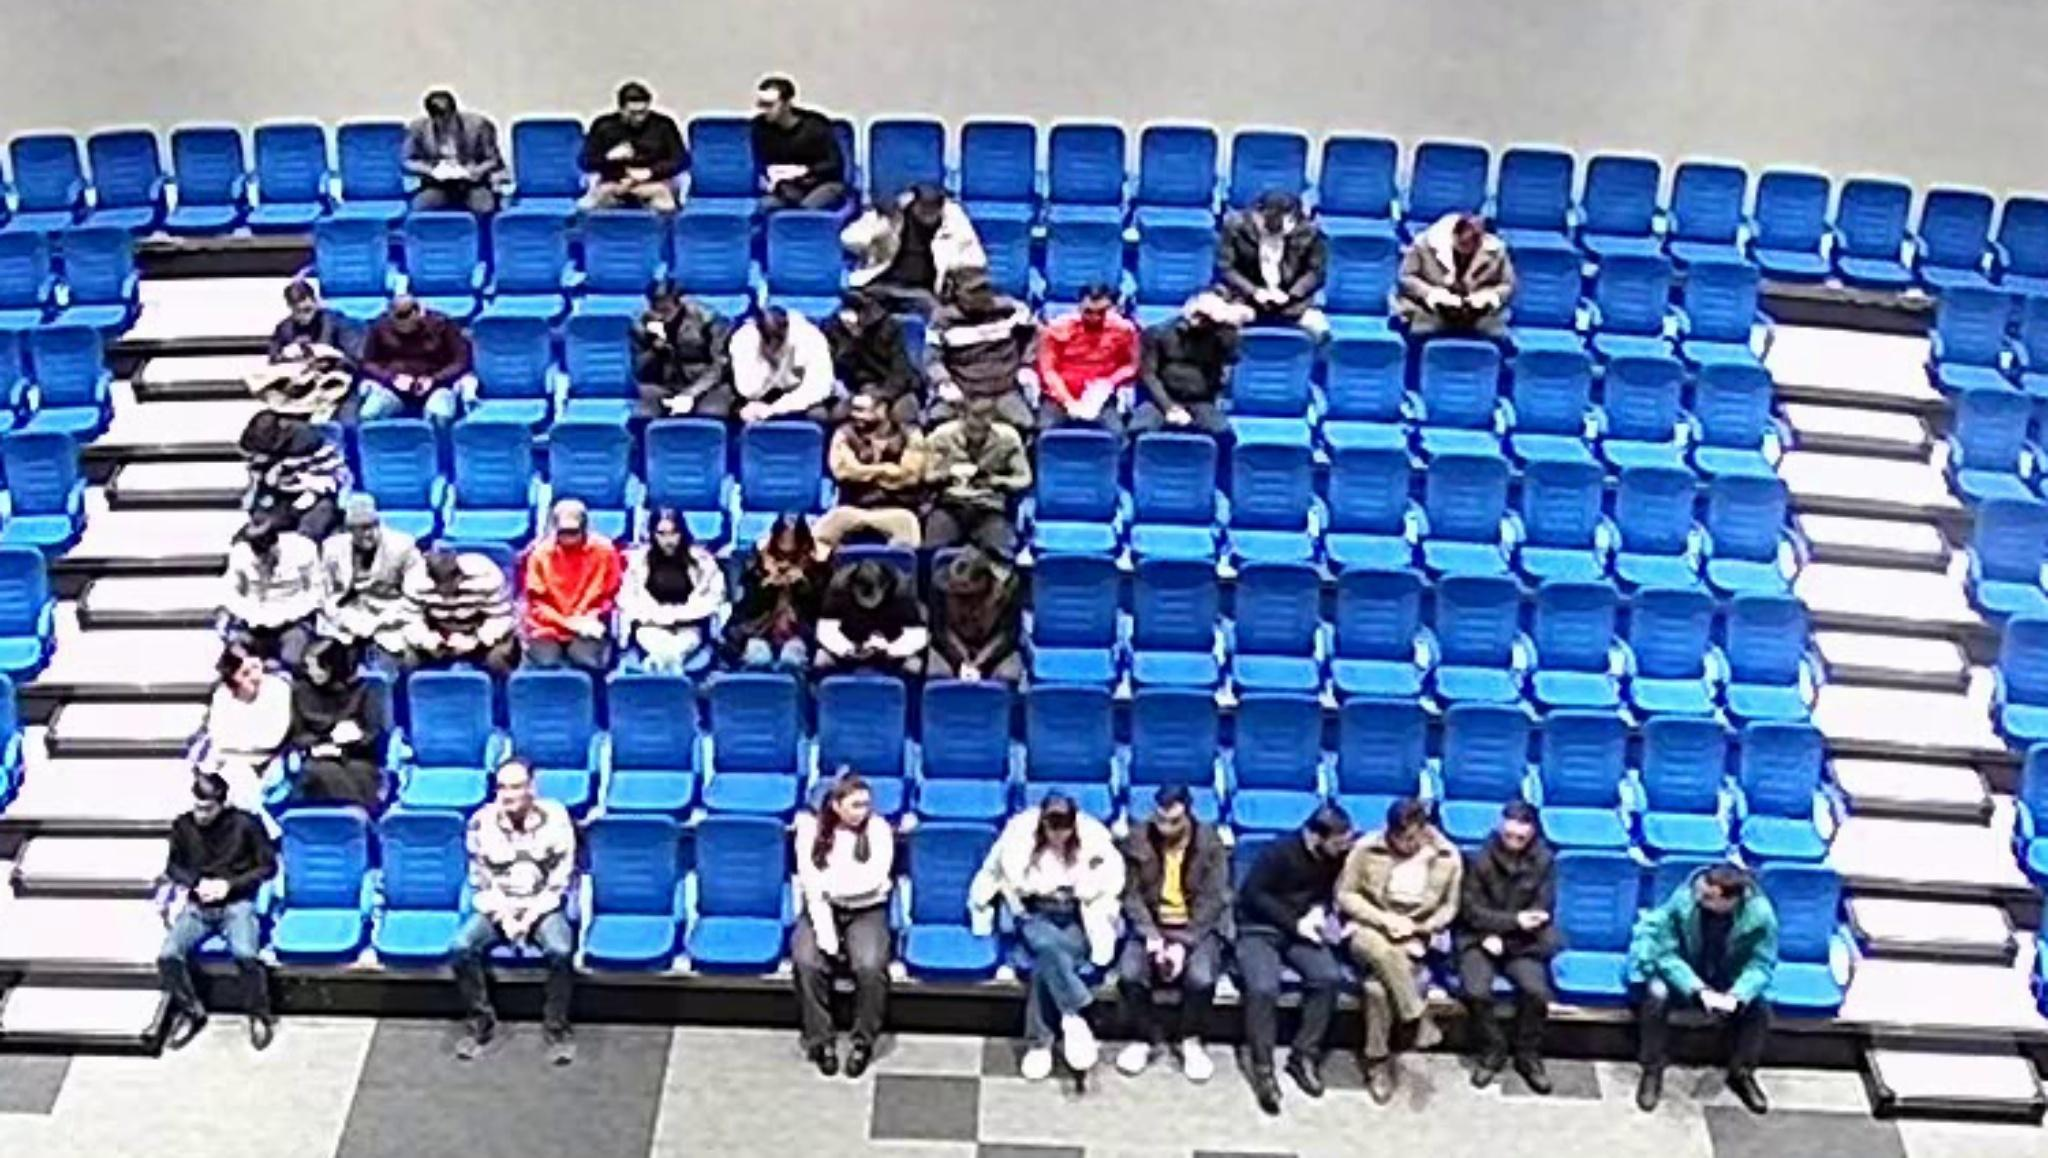empty: (1743, 861, 1861, 1022), (679, 816, 791, 981), (903, 820, 1011, 986), (1539, 848, 1646, 1007), (578, 815, 684, 964), (1016, 681, 1117, 830), (270, 810, 371, 955), (1227, 694, 1328, 839), (917, 677, 1016, 823), (699, 670, 803, 808), (814, 673, 910, 822), (1730, 716, 1829, 860), (371, 809, 470, 953), (1632, 713, 1730, 855), (1535, 708, 1634, 847), (1125, 684, 1222, 826), (399, 670, 498, 809), (1442, 698, 1539, 839), (599, 668, 699, 803), (1332, 698, 1428, 839), (1429, 567, 1526, 704), (1227, 556, 1324, 692), (1128, 553, 1225, 689), (1618, 584, 1719, 713), (1028, 553, 1124, 688), (1318, 433, 1415, 566), (505, 664, 599, 799), (1227, 426, 1322, 559), (1529, 575, 1623, 708), (1328, 566, 1425, 694), (1516, 457, 1612, 587), (1421, 442, 1515, 571), (1605, 466, 1702, 591), (1717, 592, 1813, 719), (1699, 470, 1795, 595), (1031, 424, 1122, 553), (1826, 174, 1921, 294), (1595, 349, 1688, 471), (1128, 429, 1217, 556), (1685, 356, 1777, 477), (1964, 494, 2047, 626), (1943, 381, 2035, 500), (1506, 339, 1595, 463), (1228, 324, 1322, 438), (1318, 328, 1407, 449), (1928, 277, 2018, 395), (467, 310, 557, 426), (1416, 338, 1504, 457), (449, 411, 540, 525), (1744, 166, 1836, 279), (83, 127, 176, 236), (544, 416, 634, 529), (1910, 184, 1997, 300), (558, 307, 643, 425), (353, 418, 444, 526), (1498, 238, 1587, 349), (20, 319, 111, 426), (643, 418, 733, 526), (49, 215, 141, 321), (738, 418, 827, 525), (166, 124, 253, 231), (1134, 215, 1222, 319), (762, 207, 852, 308), (1582, 249, 1672, 350), (1675, 249, 1761, 355), (1, 429, 86, 536), (1042, 215, 1129, 317), (250, 121, 336, 224), (312, 211, 397, 314), (672, 205, 761, 303), (397, 208, 484, 307), (1318, 228, 1404, 328), (578, 207, 672, 297), (1577, 152, 1664, 248), (487, 210, 574, 305), (1667, 158, 1751, 255), (1492, 146, 1577, 241), (959, 210, 1038, 310), (1315, 134, 1402, 222), (958, 120, 1039, 214), (333, 118, 414, 214), (1, 134, 80, 231), (1405, 139, 1492, 227), (1134, 124, 1218, 212), (1047, 122, 1128, 212), (866, 115, 947, 205), (511, 115, 589, 207), (684, 113, 761, 205), (1990, 613, 2047, 740), (1227, 128, 1312, 210), (0, 224, 63, 332), (1, 543, 56, 666), (1986, 194, 2047, 301)
